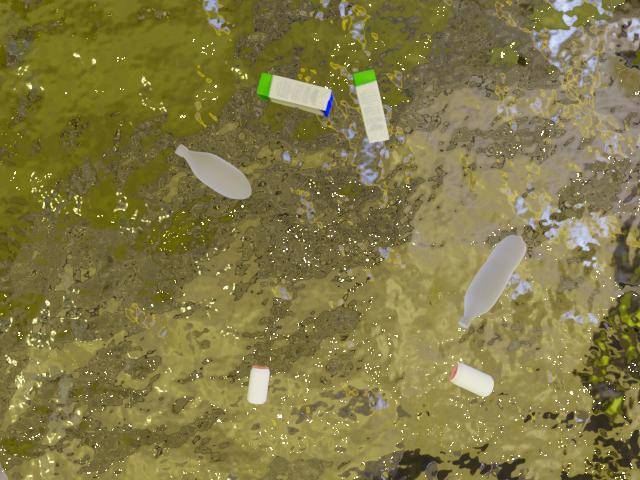Metal: (443, 354, 504, 409), (242, 350, 278, 419)
Plastic: (444, 216, 546, 341), (175, 135, 258, 210)
Trash: (239, 70, 331, 123), (352, 64, 399, 151)
